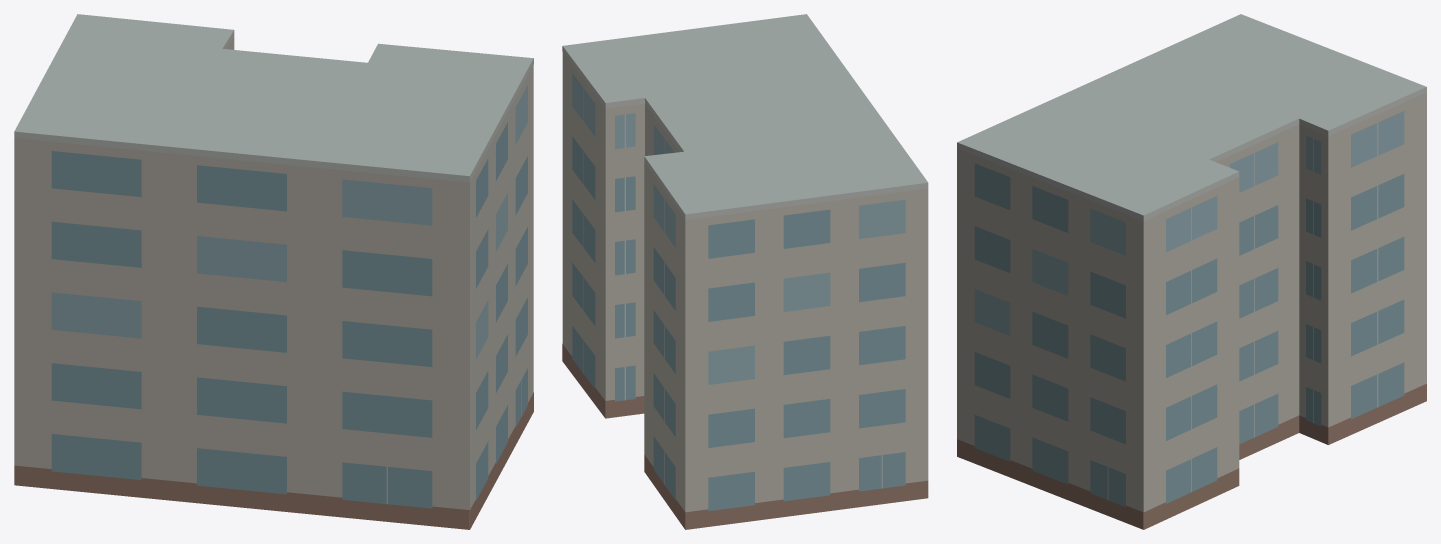
The model's file is survey-upis-32832454.glb.
3 renders of one model, left to right at view 1: azimuth 30°, elevation 25°; view 2: azimuth 150°, elevation 25°; view 3: azimuth 270°, elevation 25°, orthographic. The views are drawn at different scales.
Visible parts, largest first — view 1: survey-upis-32832454.tmp; view 2: survey-upis-32832454.tmp; view 3: survey-upis-32832454.tmp.
Boxes of the visible parts, x1=… form: survey-upis-32832454.tmp: x1=14, y1=14, x2=533, y2=529; survey-upis-32832454.tmp: x1=562, y1=14, x2=928, y2=529; survey-upis-32832454.tmp: x1=957, y1=14, x2=1426, y2=529.
Bounding box in the file's own units: 18.44 × 13.4 × 18.16.
